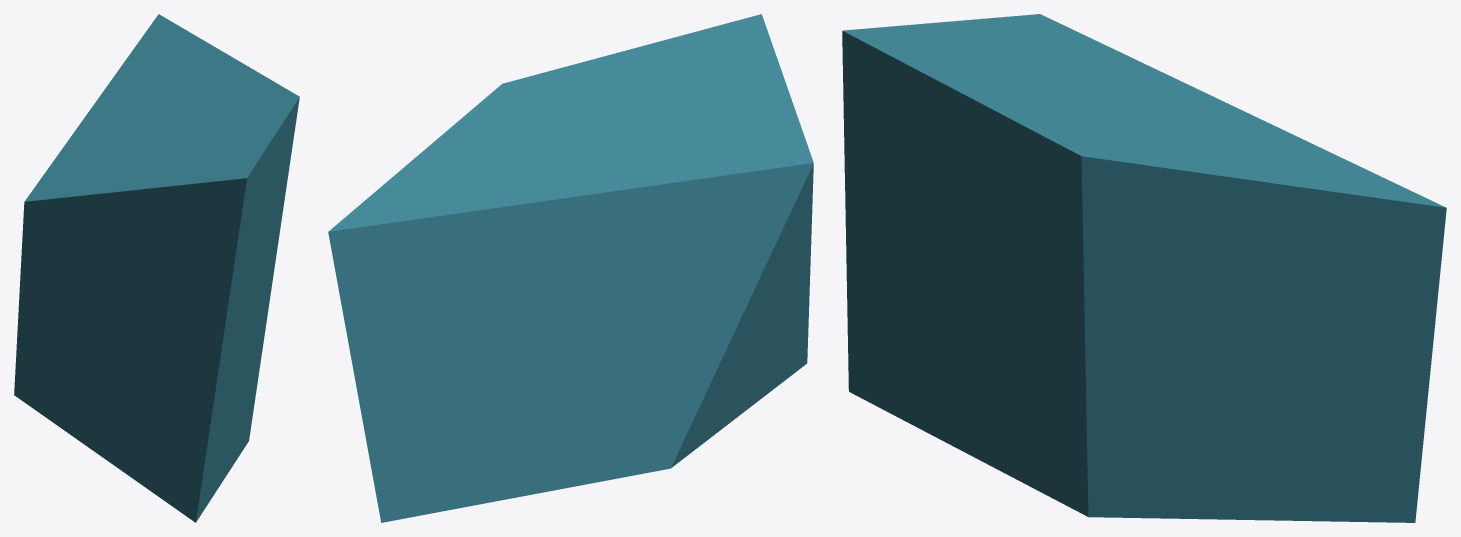
The picture shows the model from 3 angles, left to right: view 1: azimuth 30°, elevation 25°; view 2: azimuth 150°, elevation 25°; view 3: azimuth 270°, elevation 25°; orthographic projection. The views are drawn at different scales.
Parts seen in each view (by area): view 1: Cube.018; view 2: Cube.018; view 3: Cube.018.
Part boxes in pixels (x1,y1,x2,y2): Cube.018: (14,14,299,522); Cube.018: (328,14,813,522); Cube.018: (842,14,1446,522).
Size of the model in its own units: 0.8005 by 0.9063 by 1.17.
